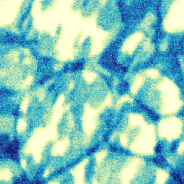hole_filled: (12, 66, 111, 173), (21, 10, 122, 59), (126, 63, 184, 116), (0, 39, 37, 91)
